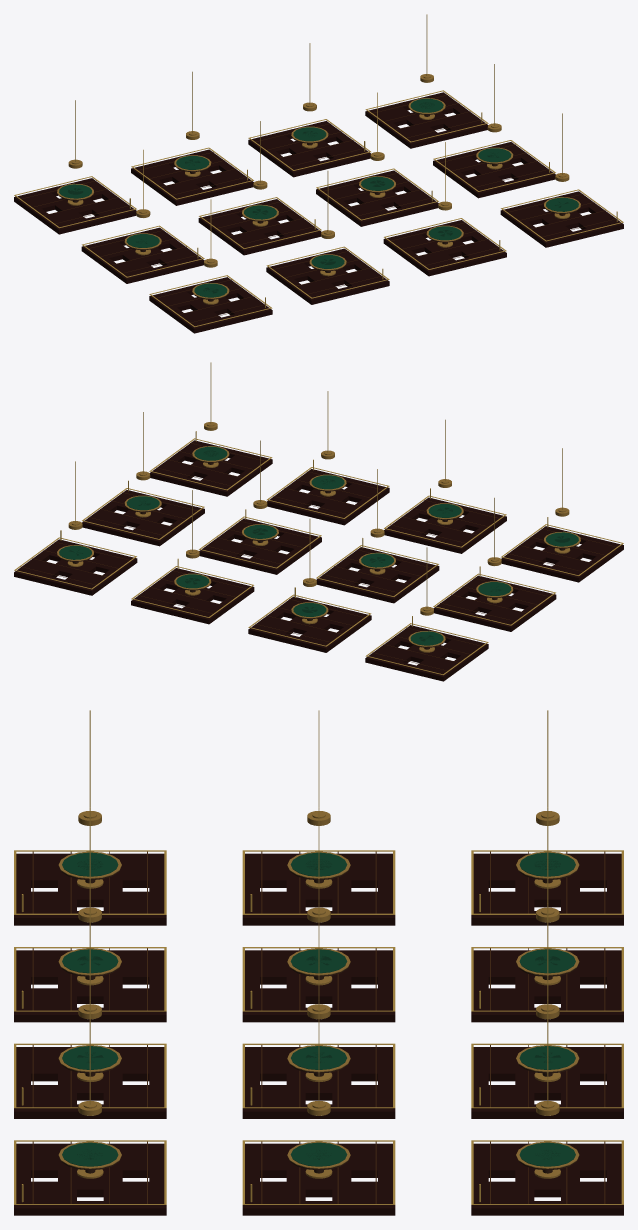
File: lb_bake_tables.glb
3 renders of one model, top to bottom at view 1: azimuth 30°, elevation 25°; view 2: azimuth 150°, elevation 25°; view 3: azimuth 270°, elevation 25°, orthographic. The views are drawn at different scales.
Bounding box in the file's own units: 44 × 10.6 × 32.
